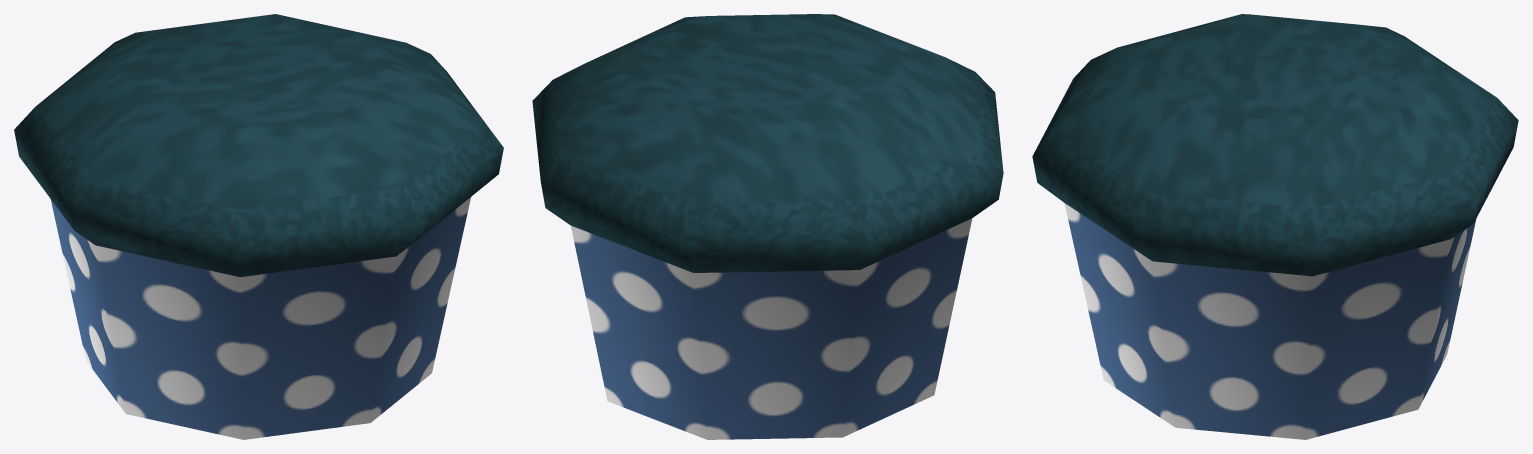
Rendered from Muffin_Plain_06.FBX.
3 views of the same model, side by side, from view 1: azimuth 30°, elevation 25°; view 2: azimuth 150°, elevation 25°; view 3: azimuth 270°, elevation 25° (orthographic).
Parts seen in each view (by area): view 1: Muffin_B; view 2: Muffin_B; view 3: Muffin_B.
Boxes of the visible parts, left/top/right/bottom form: Muffin_B: left=14, top=14, right=503, bottom=439; Muffin_B: left=532, top=14, right=1003, bottom=439; Muffin_B: left=1032, top=14, right=1518, bottom=439.
Size of the model in its own units: 36.61 by 24.52 by 36.61.
